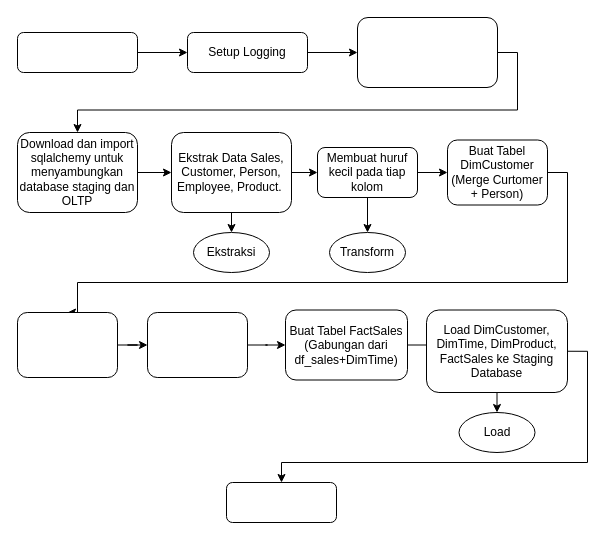
Image size: 613x540. Some labels were removed from this diagram. Each missing label, with the box of its shape:
Buat Tabel DimProduct (Dari Product): (146, 312, 248, 378)
Buat Tabel DimTime (Dari OrderDate): (16, 312, 118, 378)
Mulai: (16, 32, 138, 72)
Sambungkan Database OLTP dan Pastikan Database Staging Siap: (356, 16, 498, 88)
Selesai: (226, 482, 336, 522)
